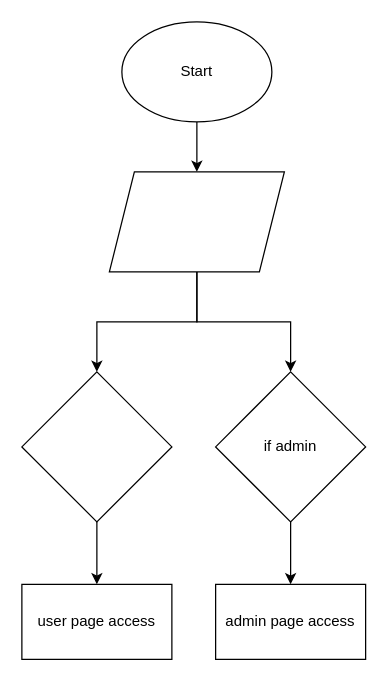
This 388x681 diagram has some shape labels left out. Here are the shapes that lost their labels. From the top down, the centre of each, then its label:
point 196,221: Login user or admin
point 96,446: if user
